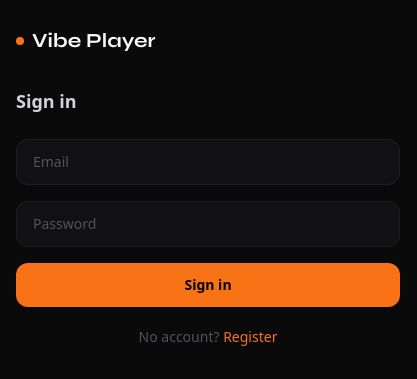
Test: LoginPage › shows error message on bad credentials
Step 1. Type "wrong@example.com" into the field labelled "Email" → (208, 162), box [16,139,400,185]
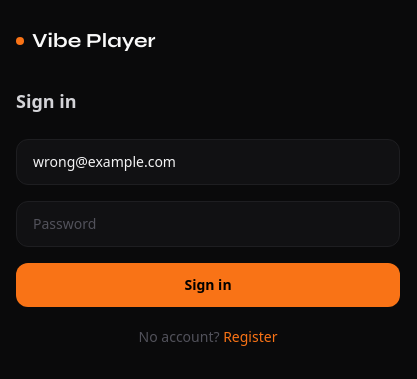
Step 2. Type "badpassword" into the password field labelled "Password" → (208, 224), box [16,201,400,247]
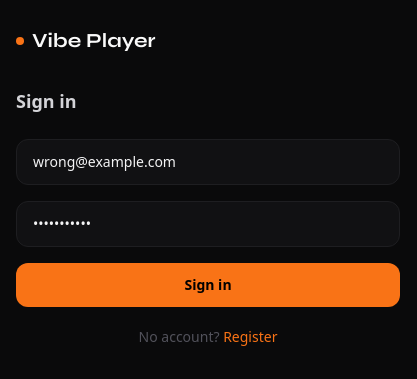
Step 3. Submit the form from the button "Sign in", box [16,263,400,307]
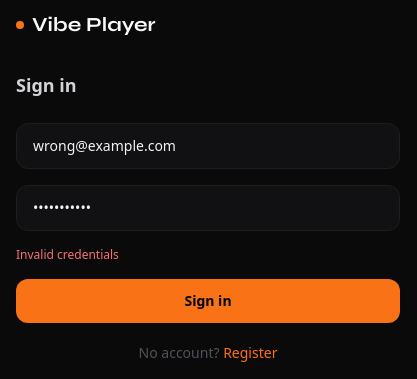
Result: the message reads "Invalid credentials" at [16,246,119,263]
